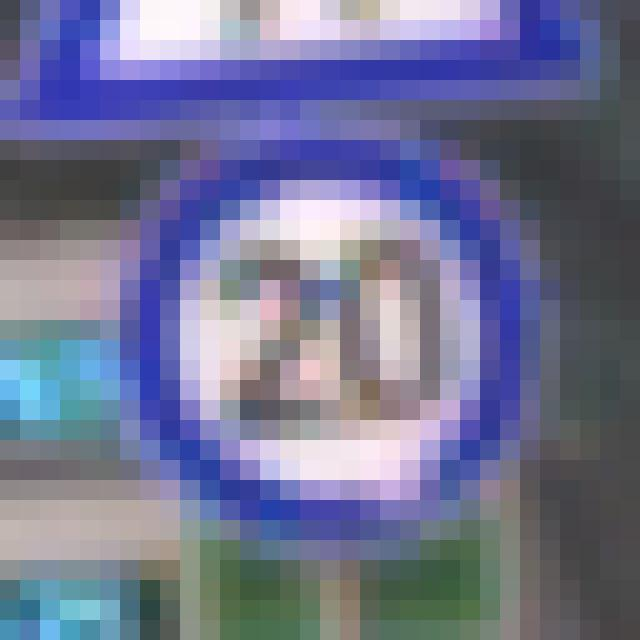SPEED LIMIT 20: (128, 138, 540, 534)
